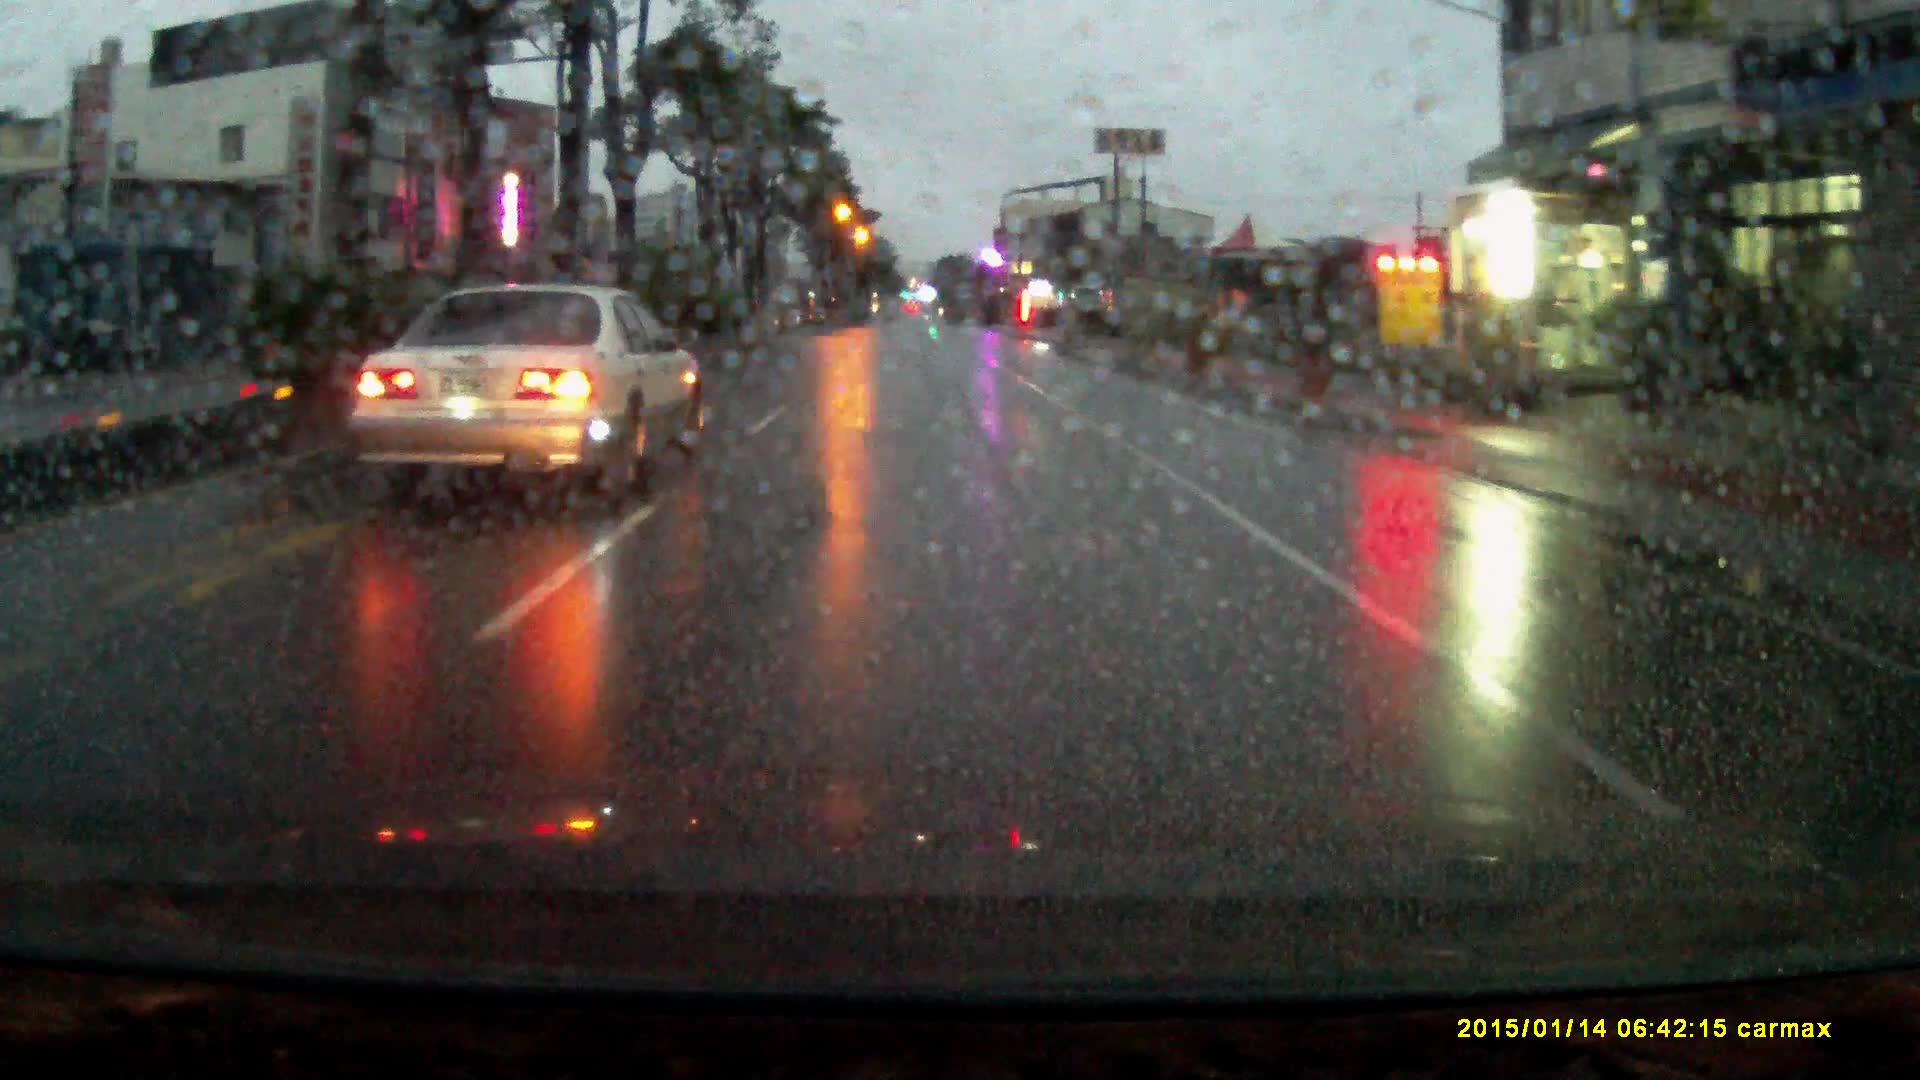vehicle: (342, 289, 705, 510)
